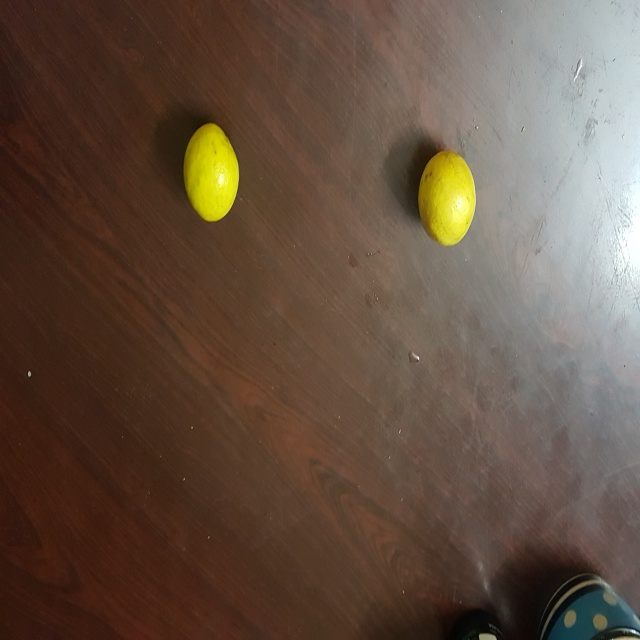lemon: (413, 144, 483, 253), (175, 118, 244, 226)
